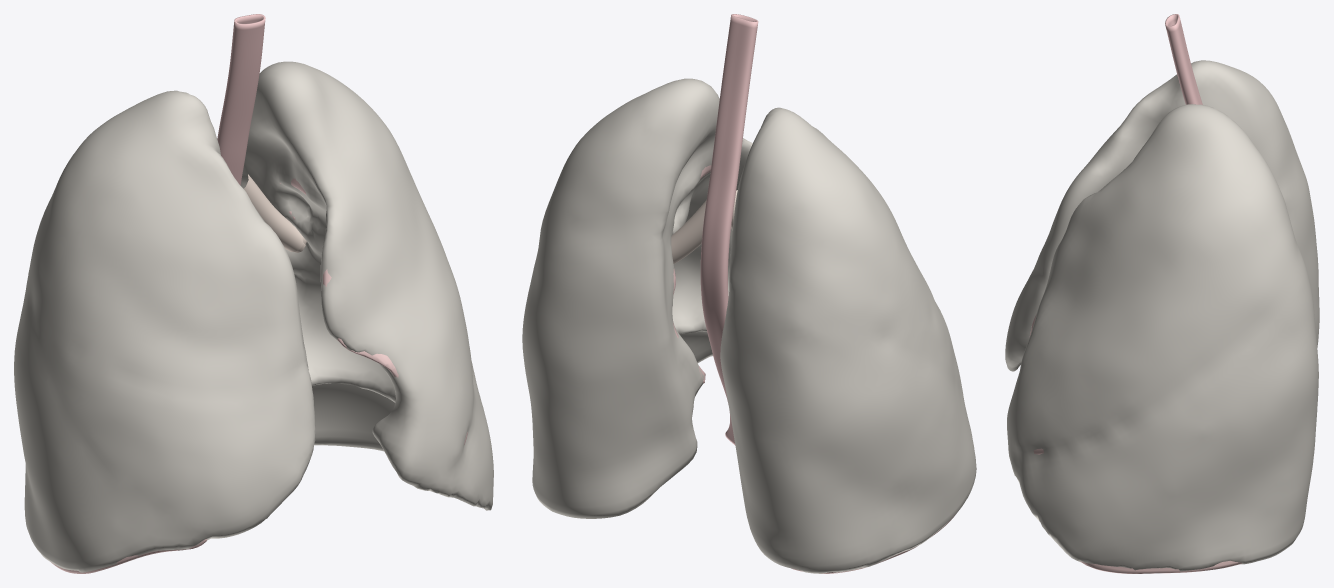
The model's file is viscera_thorax.glb.
3 views of the same model, side by side, from view 1: azimuth 30°, elevation 25°; view 2: azimuth 150°, elevation 25°; view 3: azimuth 270°, elevation 25° (orthographic). The views are drawn at different scales.
Parts seen in each view (by area): view 1: Pleura, Oesophagus, Main bronchus (L), Superior lobe of left lung; view 2: Pleura, Oesophagus, Main bronchus (L); view 3: Pleura, Oesophagus, Inferior lobe of left lung.
Part boxes in pixels (left/top/right/bottom): Pleura: left=14, top=61, right=493, bottom=572; Oesophagus: left=217, top=14, right=265, bottom=185; Main bronchus (L): left=244, top=174, right=303, bottom=251; Superior lobe of left lung: left=279, top=178, right=467, bottom=444; Pleura: left=522, top=78, right=976, bottom=573; Oesophagus: left=700, top=14, right=758, bottom=445; Main bronchus (L): left=671, top=200, right=706, bottom=263; Pleura: left=1005, top=60, right=1319, bottom=571; Oesophagus: left=1165, top=14, right=1202, bottom=104; Inferior lobe of left lung: left=1080, top=560, right=1241, bottom=573.
Bounding box in the file's own units: 0.2696 × 0.3159 × 0.1927.
